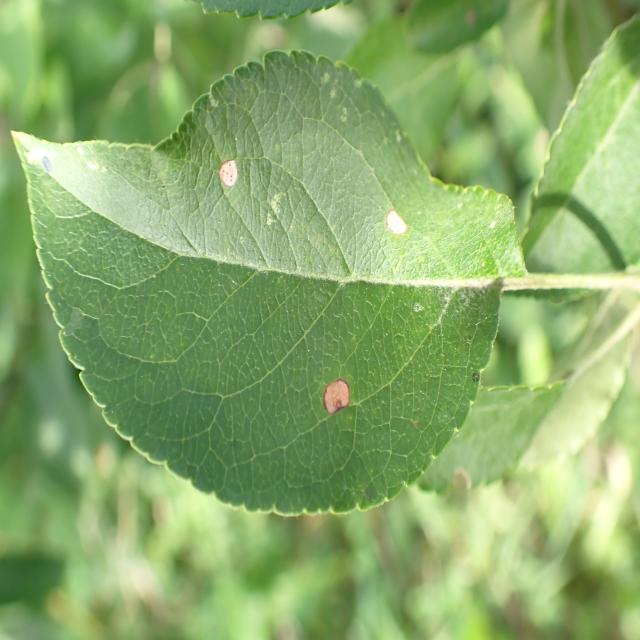Black Rot: (310, 374, 372, 422), (363, 197, 419, 244), (206, 150, 245, 201)
